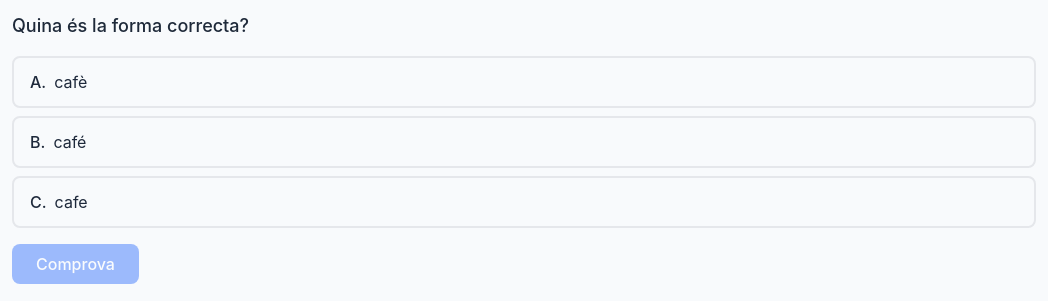
MultipleChoice › enables submit after selecting an option
Click the button "A.cafè". click: (71, 82)
box: [12, 56, 1036, 108]
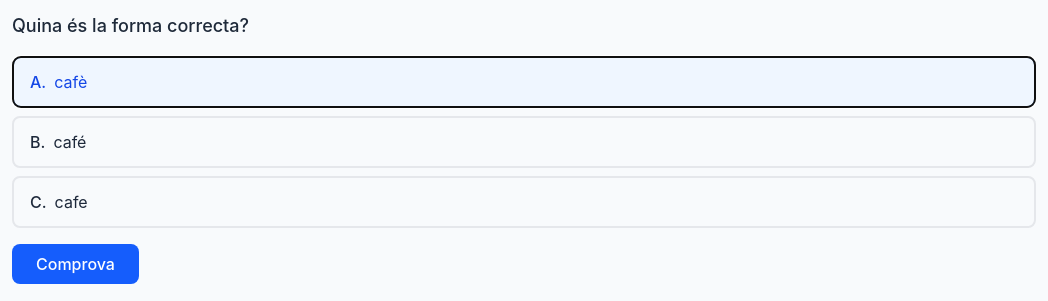
expect the button "Comprova" is enabled: met, box [12, 244, 139, 284]
